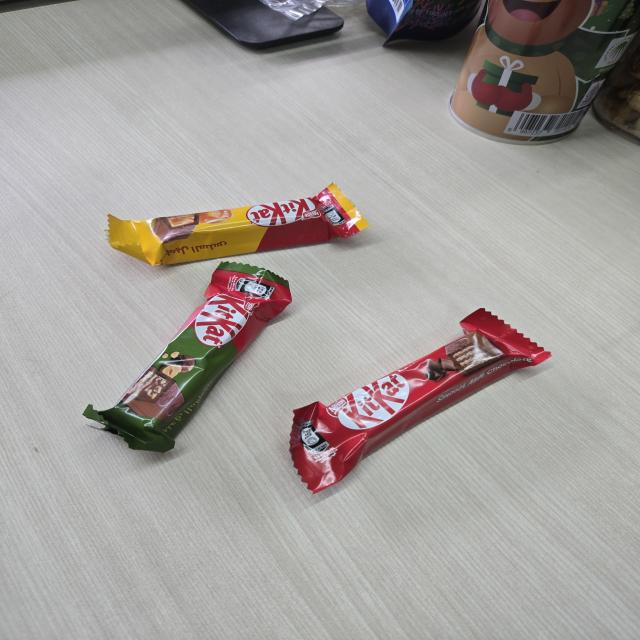chocolate-bar: (290, 301, 559, 507), (83, 257, 297, 467), (86, 185, 372, 264)
